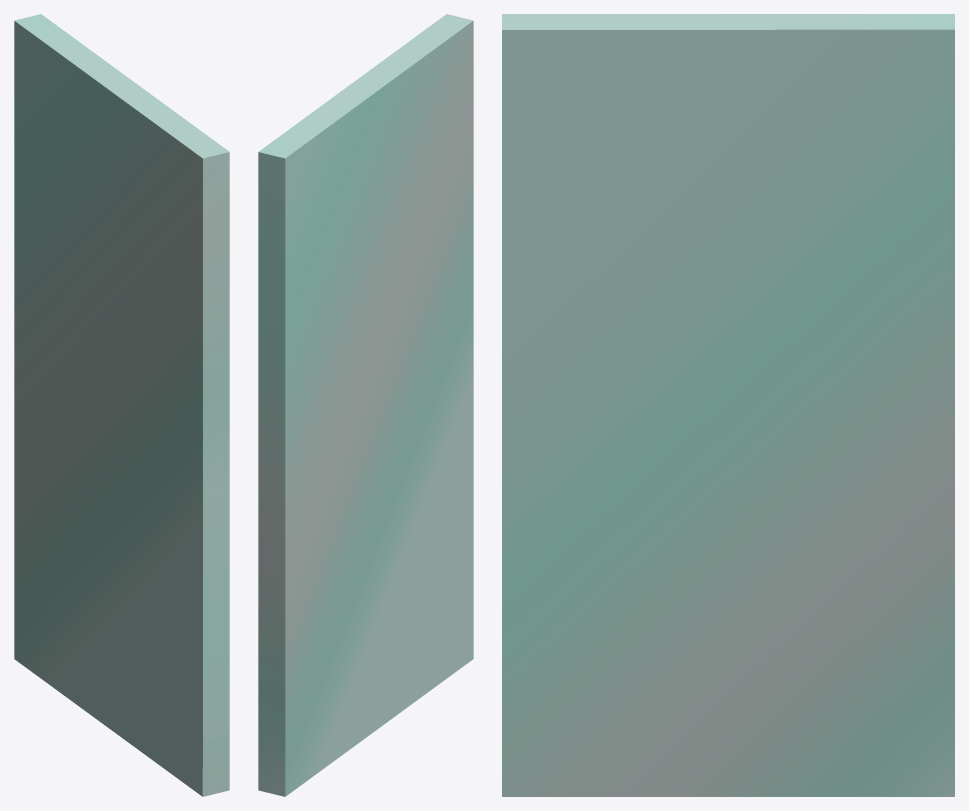
The model's file is SM_105_Door_11_1_3.fbx.
3 views of the same model, side by side, from view 1: azimuth 30°, elevation 25°; view 2: azimuth 150°, elevation 25°; view 3: azimuth 270°, elevation 25° (orthographic). The views are drawn at different scales.
Visible parts, largest first — view 1: SM_105_Door_11_1_3; view 2: SM_105_Door_11_1_3; view 3: SM_105_Door_11_1_3.
Boxes of the visible parts, <box> form: SM_105_Door_11_1_3: <box>14,14,229,796</box>; SM_105_Door_11_1_3: <box>258,14,473,796</box>; SM_105_Door_11_1_3: <box>502,14,954,796</box>.
Bounding box in the file's own units: 8.78 × 106 × 198.
1 material, 1 textured.
